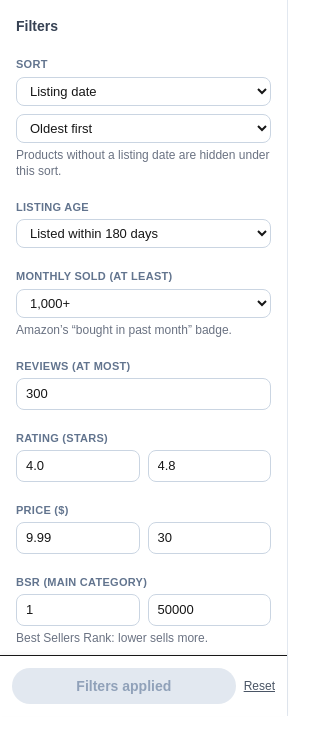
Scenario: ProductFilterPanel Apply / Reset › Reset replaces the URL with /products and clears every control
Click the button "Reset" at (259, 686), box [244,678,275,694]
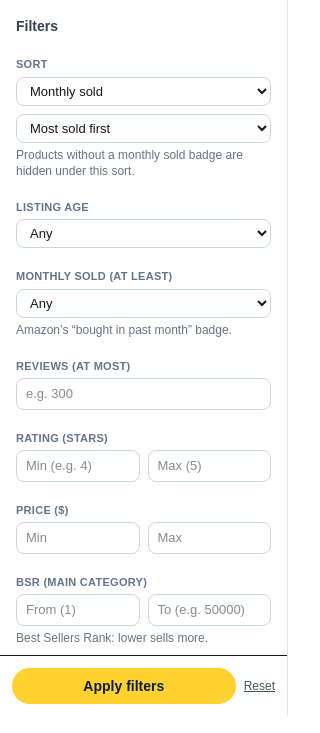
Result: the dropdown labelled "Listing age" shows "Any" at [16,219,271,248]
Result: the number field labelled "Reviews (at most)" is not empty at [16,378,271,410]
Result: the number field named "Minimum price" is not empty at [16,522,140,554]
